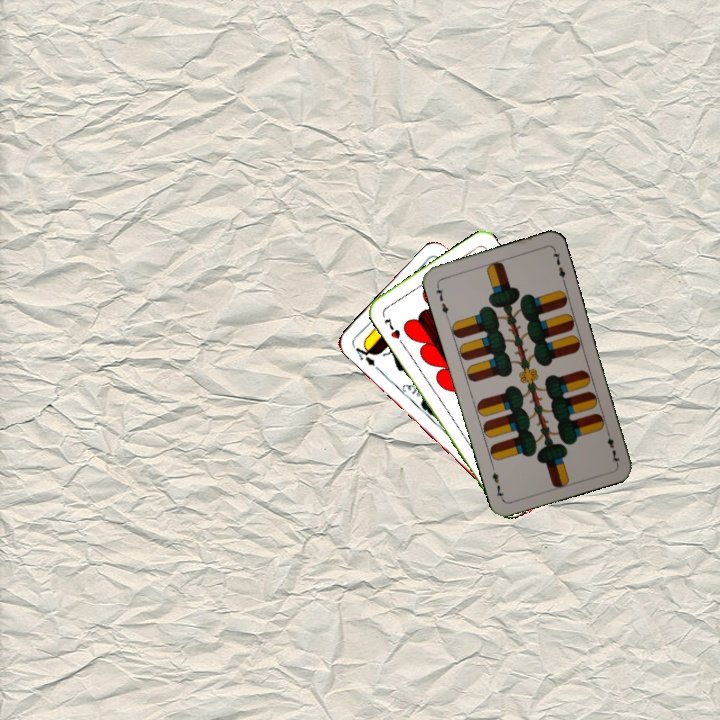E7: (603, 426, 622, 466), (432, 281, 451, 320)
EA: (351, 339, 383, 373)
H7: (380, 313, 403, 342)
